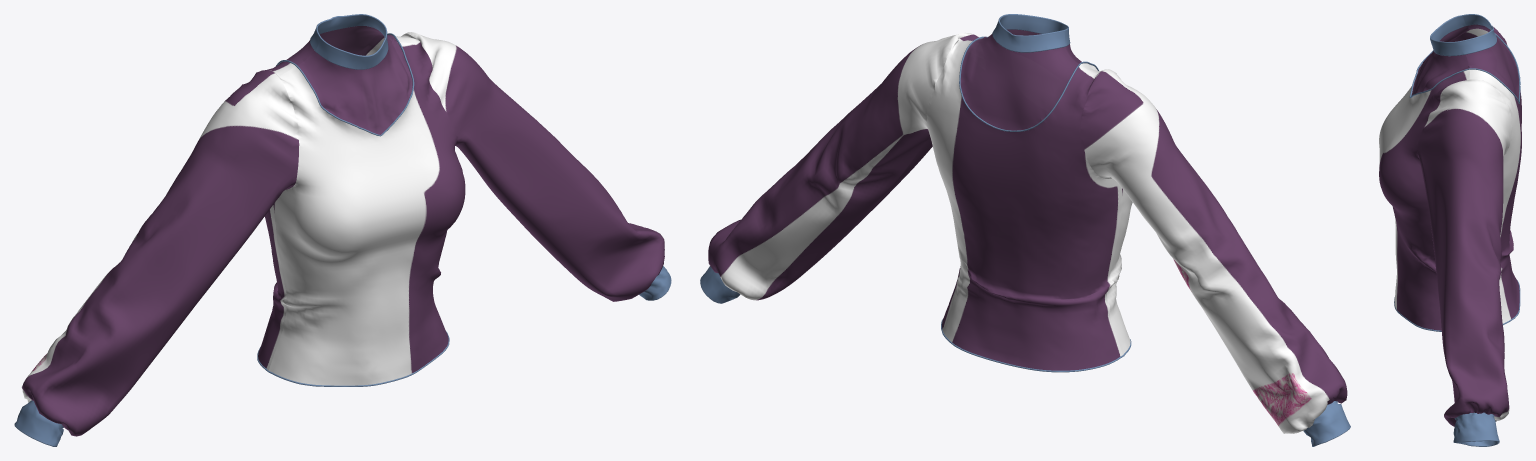
The model's file is Quad.fbx.
The picture shows the model from 3 angles, left to right: view 1: azimuth 30°, elevation 25°; view 2: azimuth 150°, elevation 25°; view 3: azimuth 270°, elevation 25°; orthographic projection. The views are drawn at different scales.
Parts seen in each view (by area): view 1: Quad; view 2: Quad; view 3: Quad.
Part boxes in pixels (<box>): Quad: <box>14,14,671,446</box>; Quad: <box>700,14,1350,446</box>; Quad: <box>1379,14,1521,446</box>.
Bounding box in the file's own units: 107 × 54.82 × 23.91.
